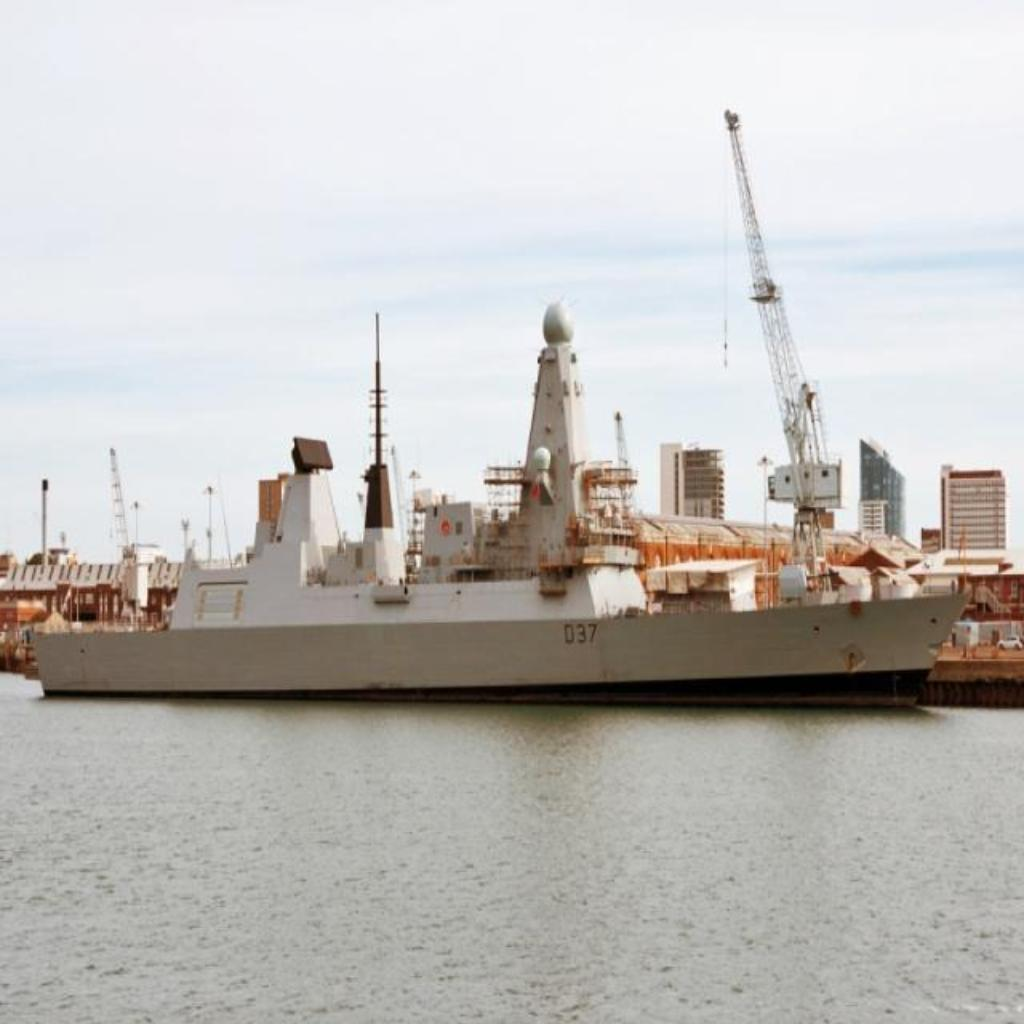Warship: (24, 248, 978, 732)
